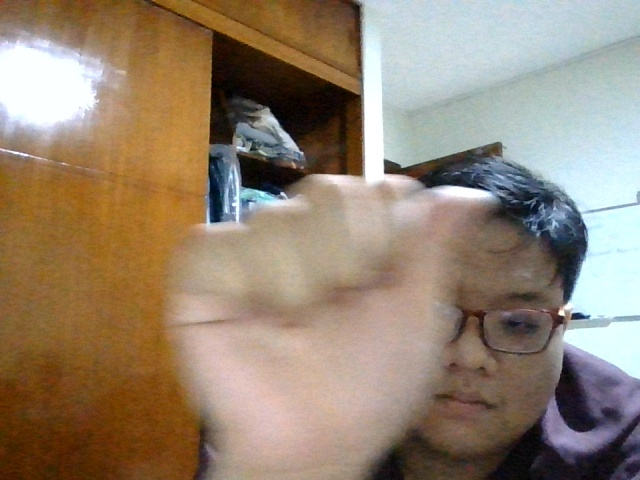a: (152, 166, 485, 461)
